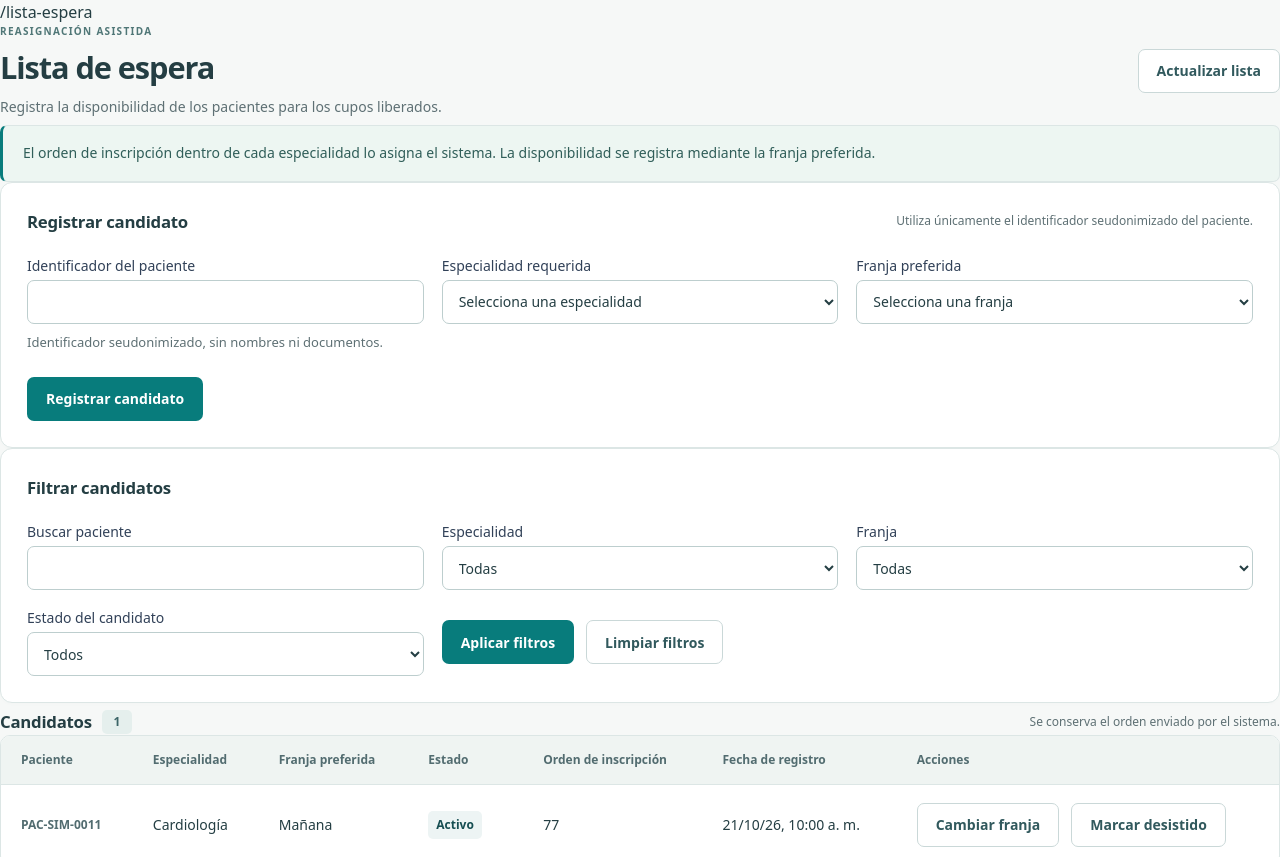
Test case: Registro de candidato (RF-069, RF-070, RN05) › envía solo los campos contractuales y muestra el orden asignado por el servidor
The image size is (1280, 857).
In the field labelled "Identificador del paciente": (225, 302) [27,280,424,324], type " PAC-SIM-0099 "
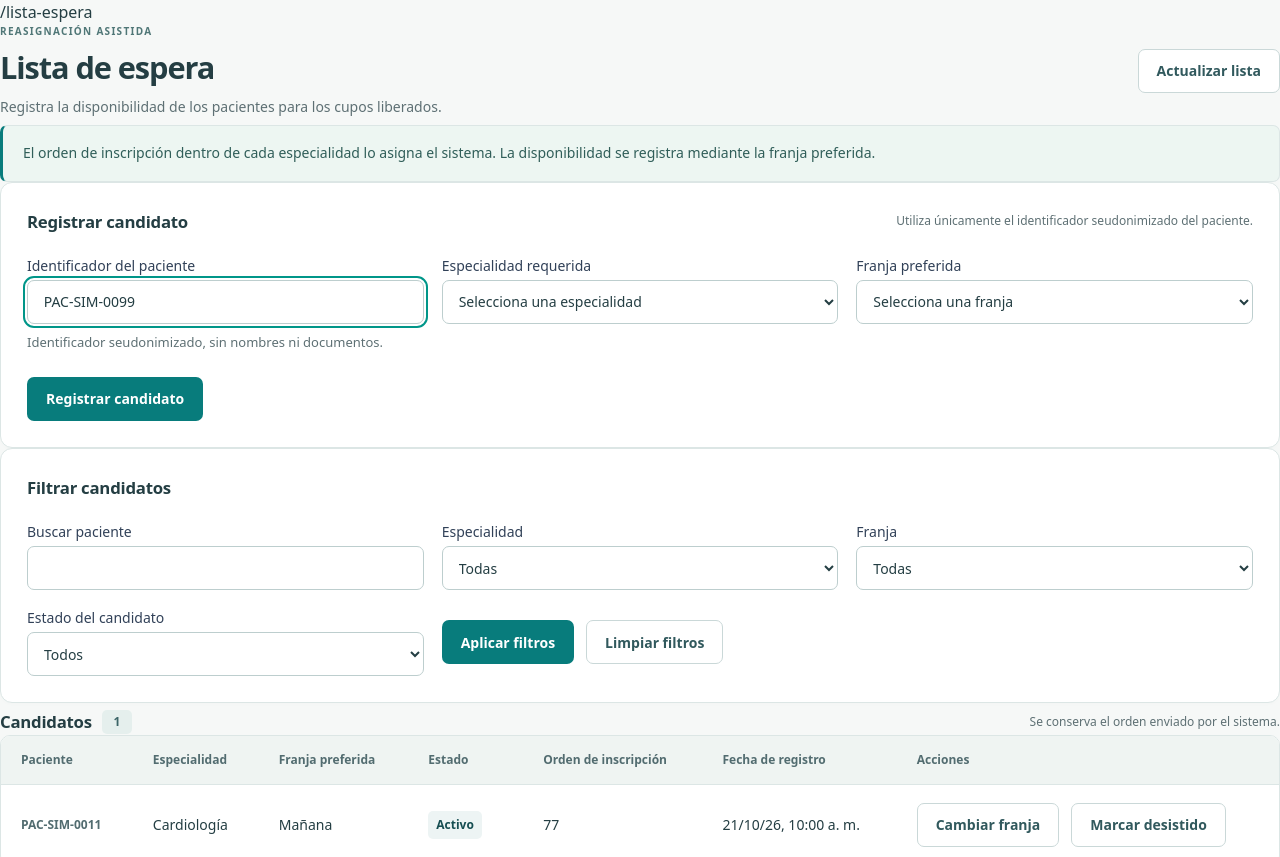
Select "Pediatría" in the dropdown labelled "Especialidad requerida": (640, 302) [442,280,838,324]
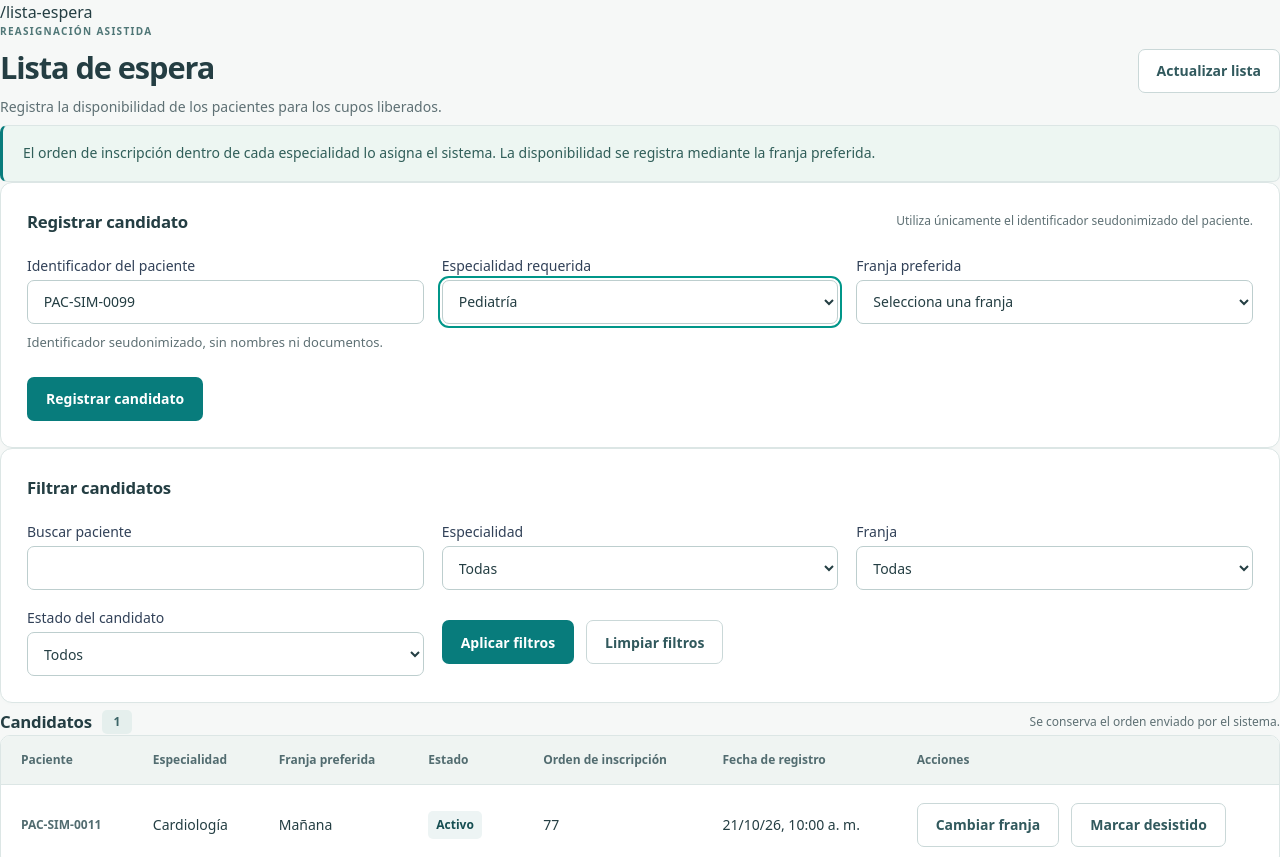
Select "Indiferente" in the dropdown labelled "Franja preferida": (1055, 302) [856,280,1253,324]
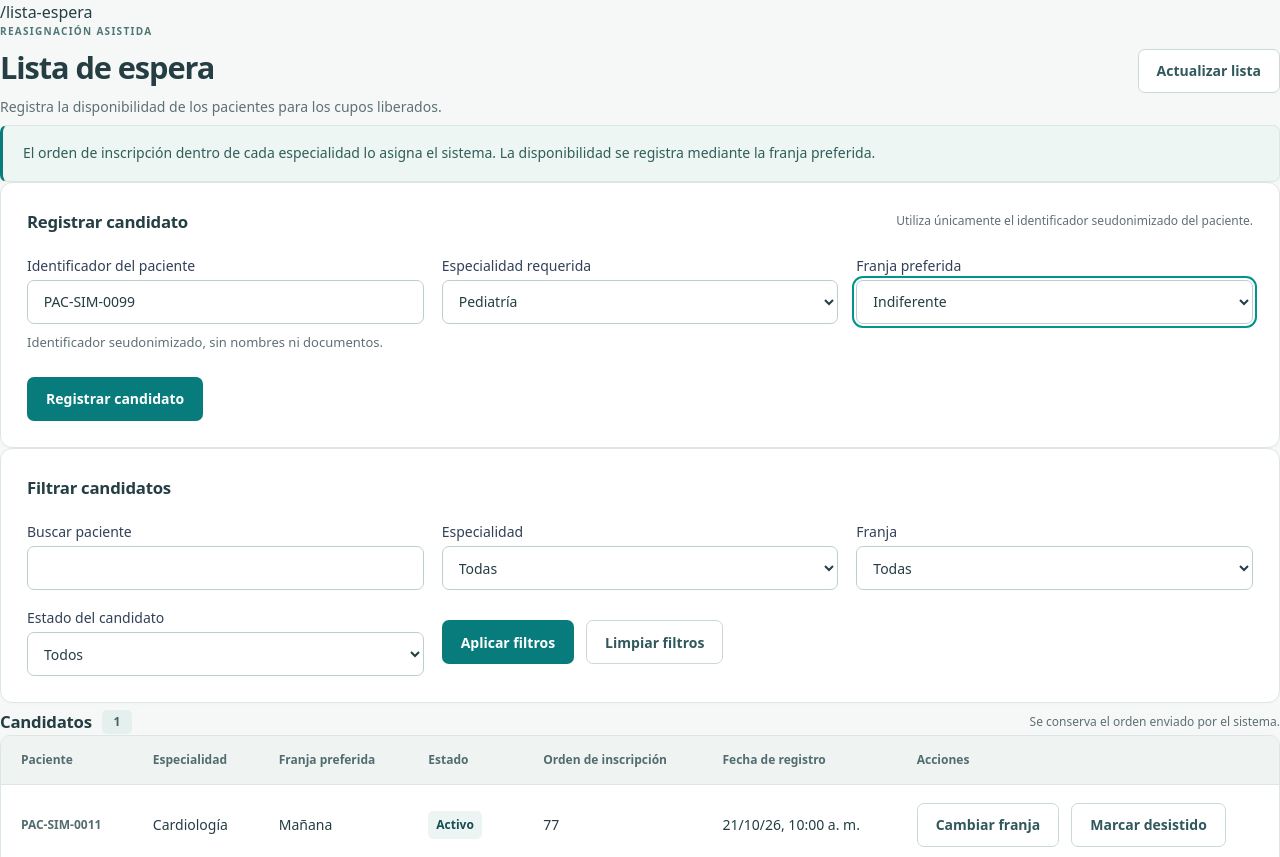
Click the button "Registrar candidato": (115, 399) [27,377,203,421]
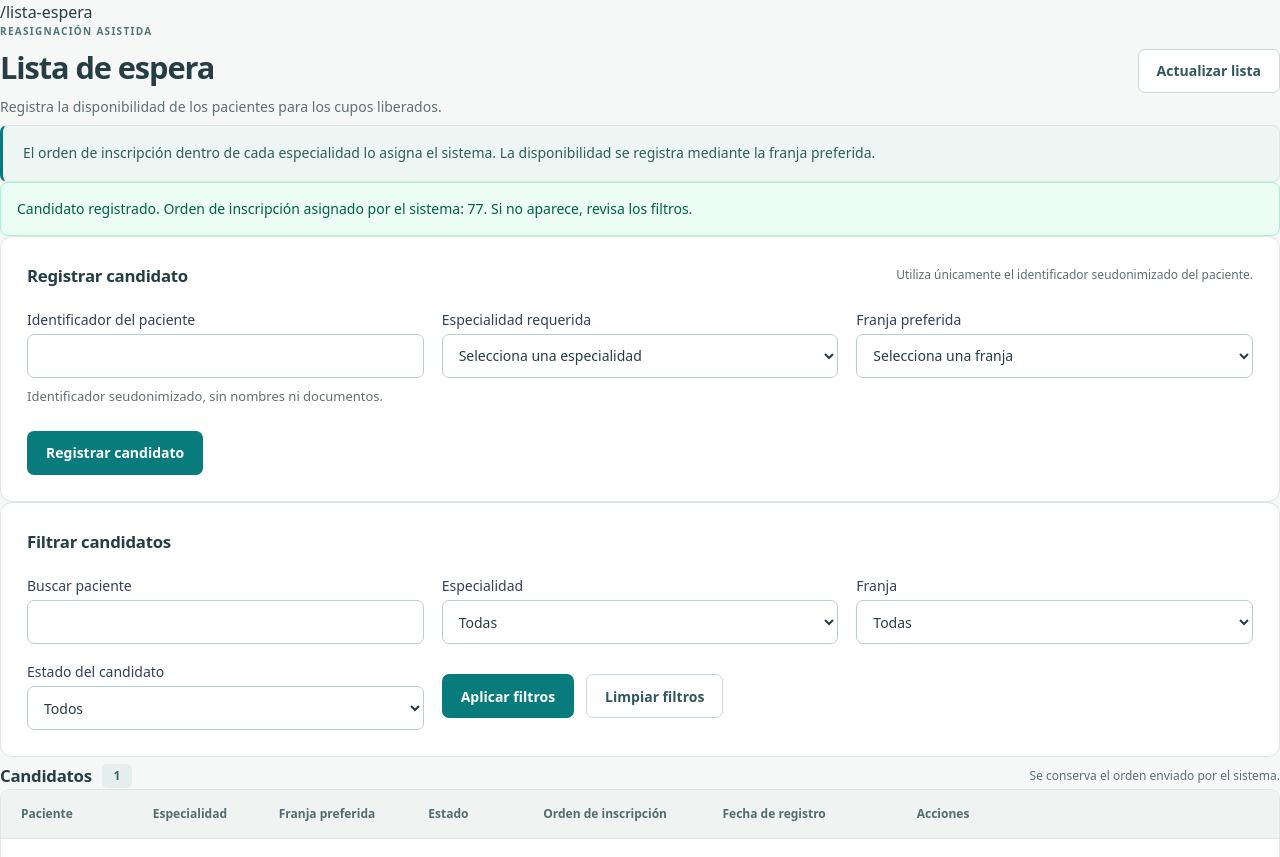
Result: the text "Candidato registrado. Orden de inscripción asignado por el sistema: 77" is shown at [17,199,692,218]
Result: the field labelled "Identificador del paciente" is empty at [27,334,424,378]
